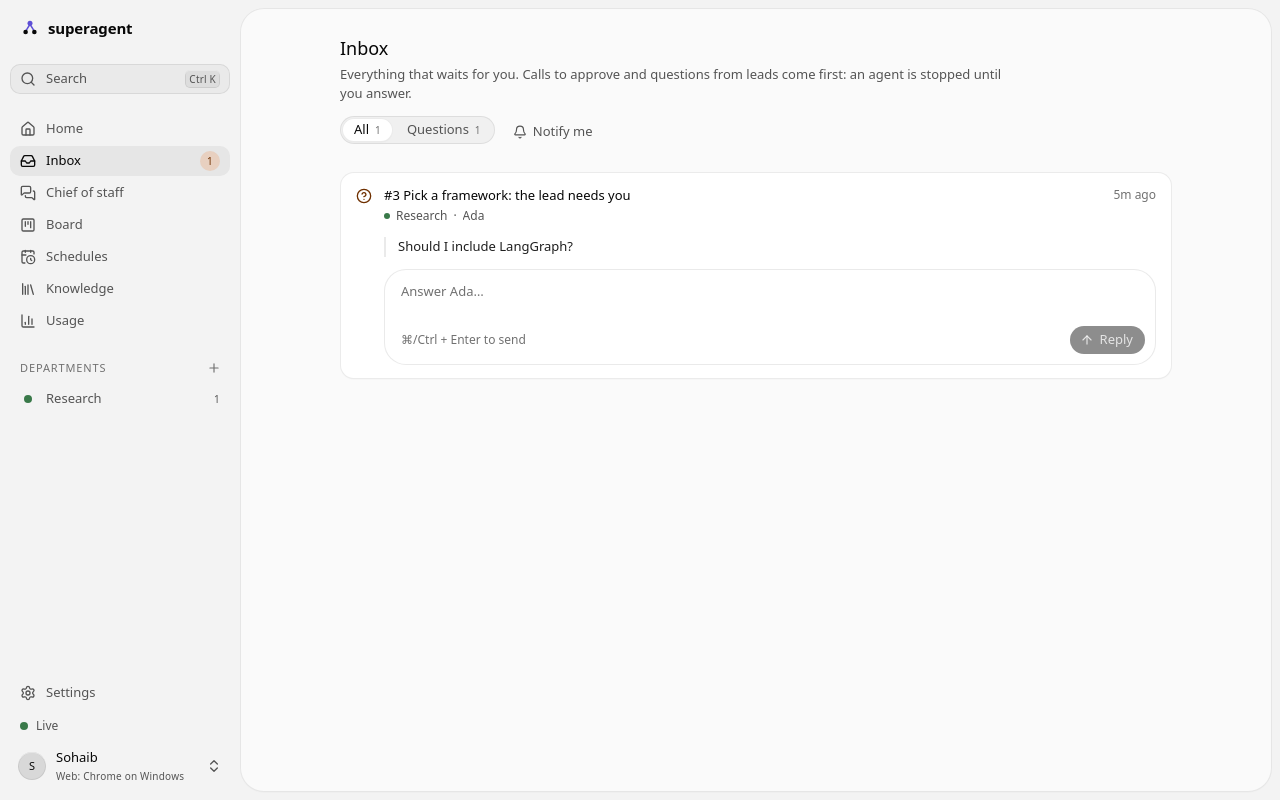
Test: the inbox › answers a lead’s question, which sends the task back to it
Expected: the text "Should I include LangGraph?" is shown, [384,237,1156,257]
Type "Yes, and CrewAI." into the text box labelled "Answer Ada".
click(770, 298); type("Yes, and CrewAI.")  # box [385,270,1155,326]
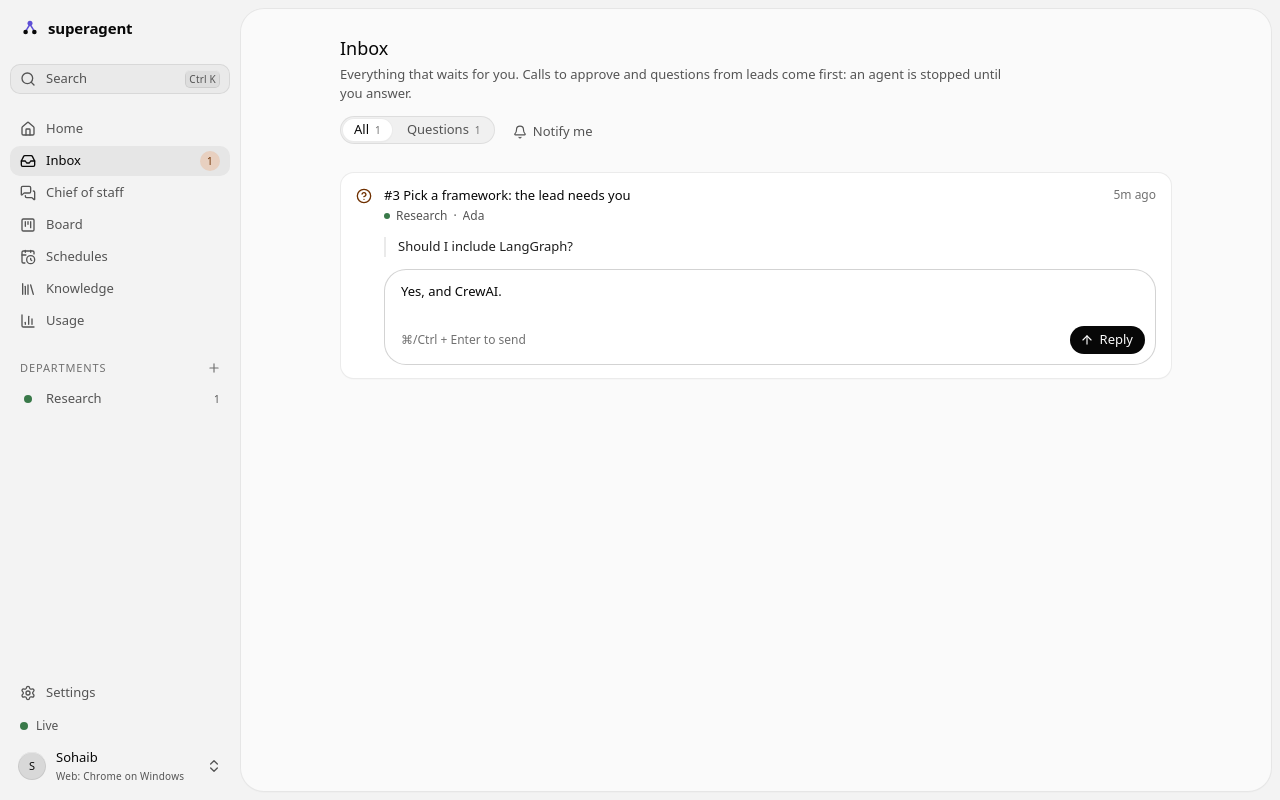
Click the button "Reply".
click(1107, 340)  # box [1070,326,1145,354]
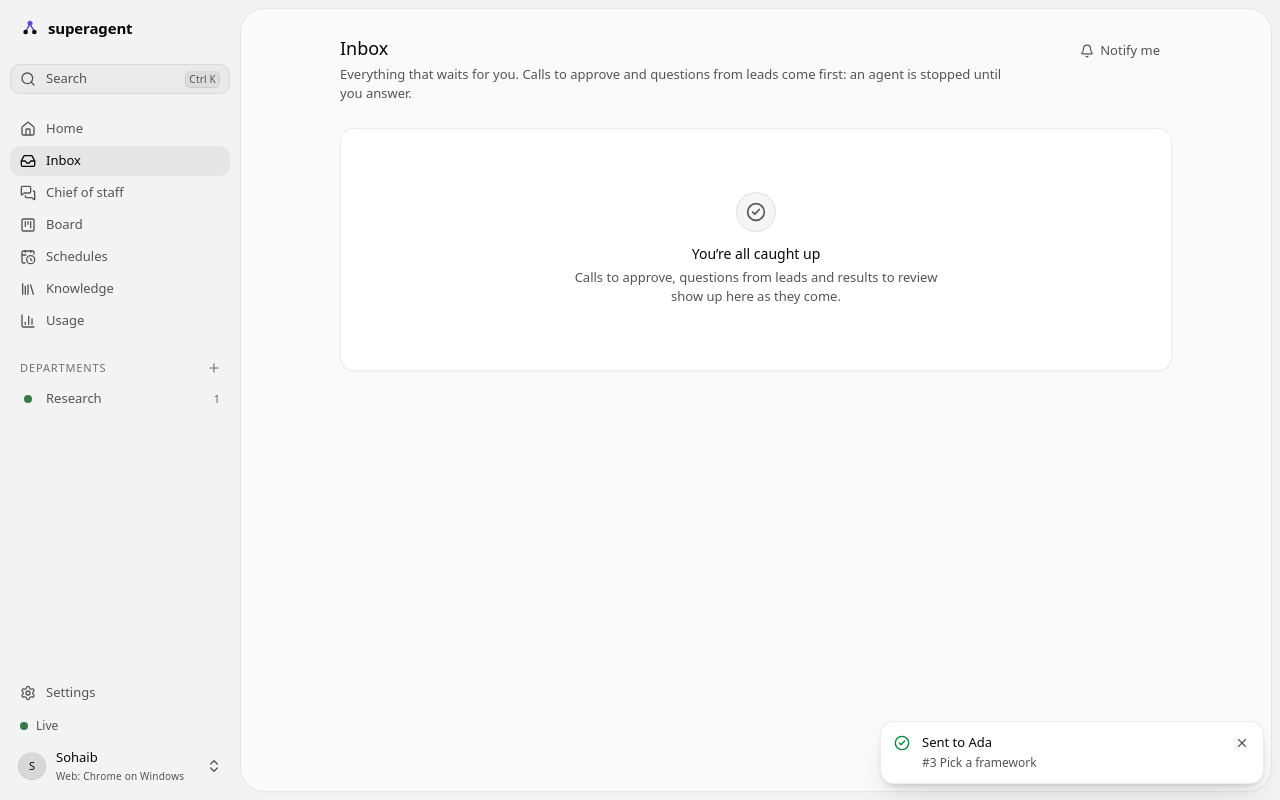
Now the text "You’re all caught up" is shown, box [692,244,820,263]
